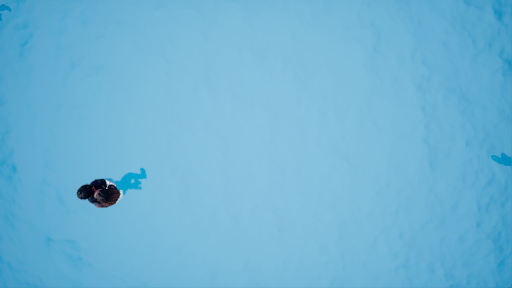person: (72, 167, 150, 204)
